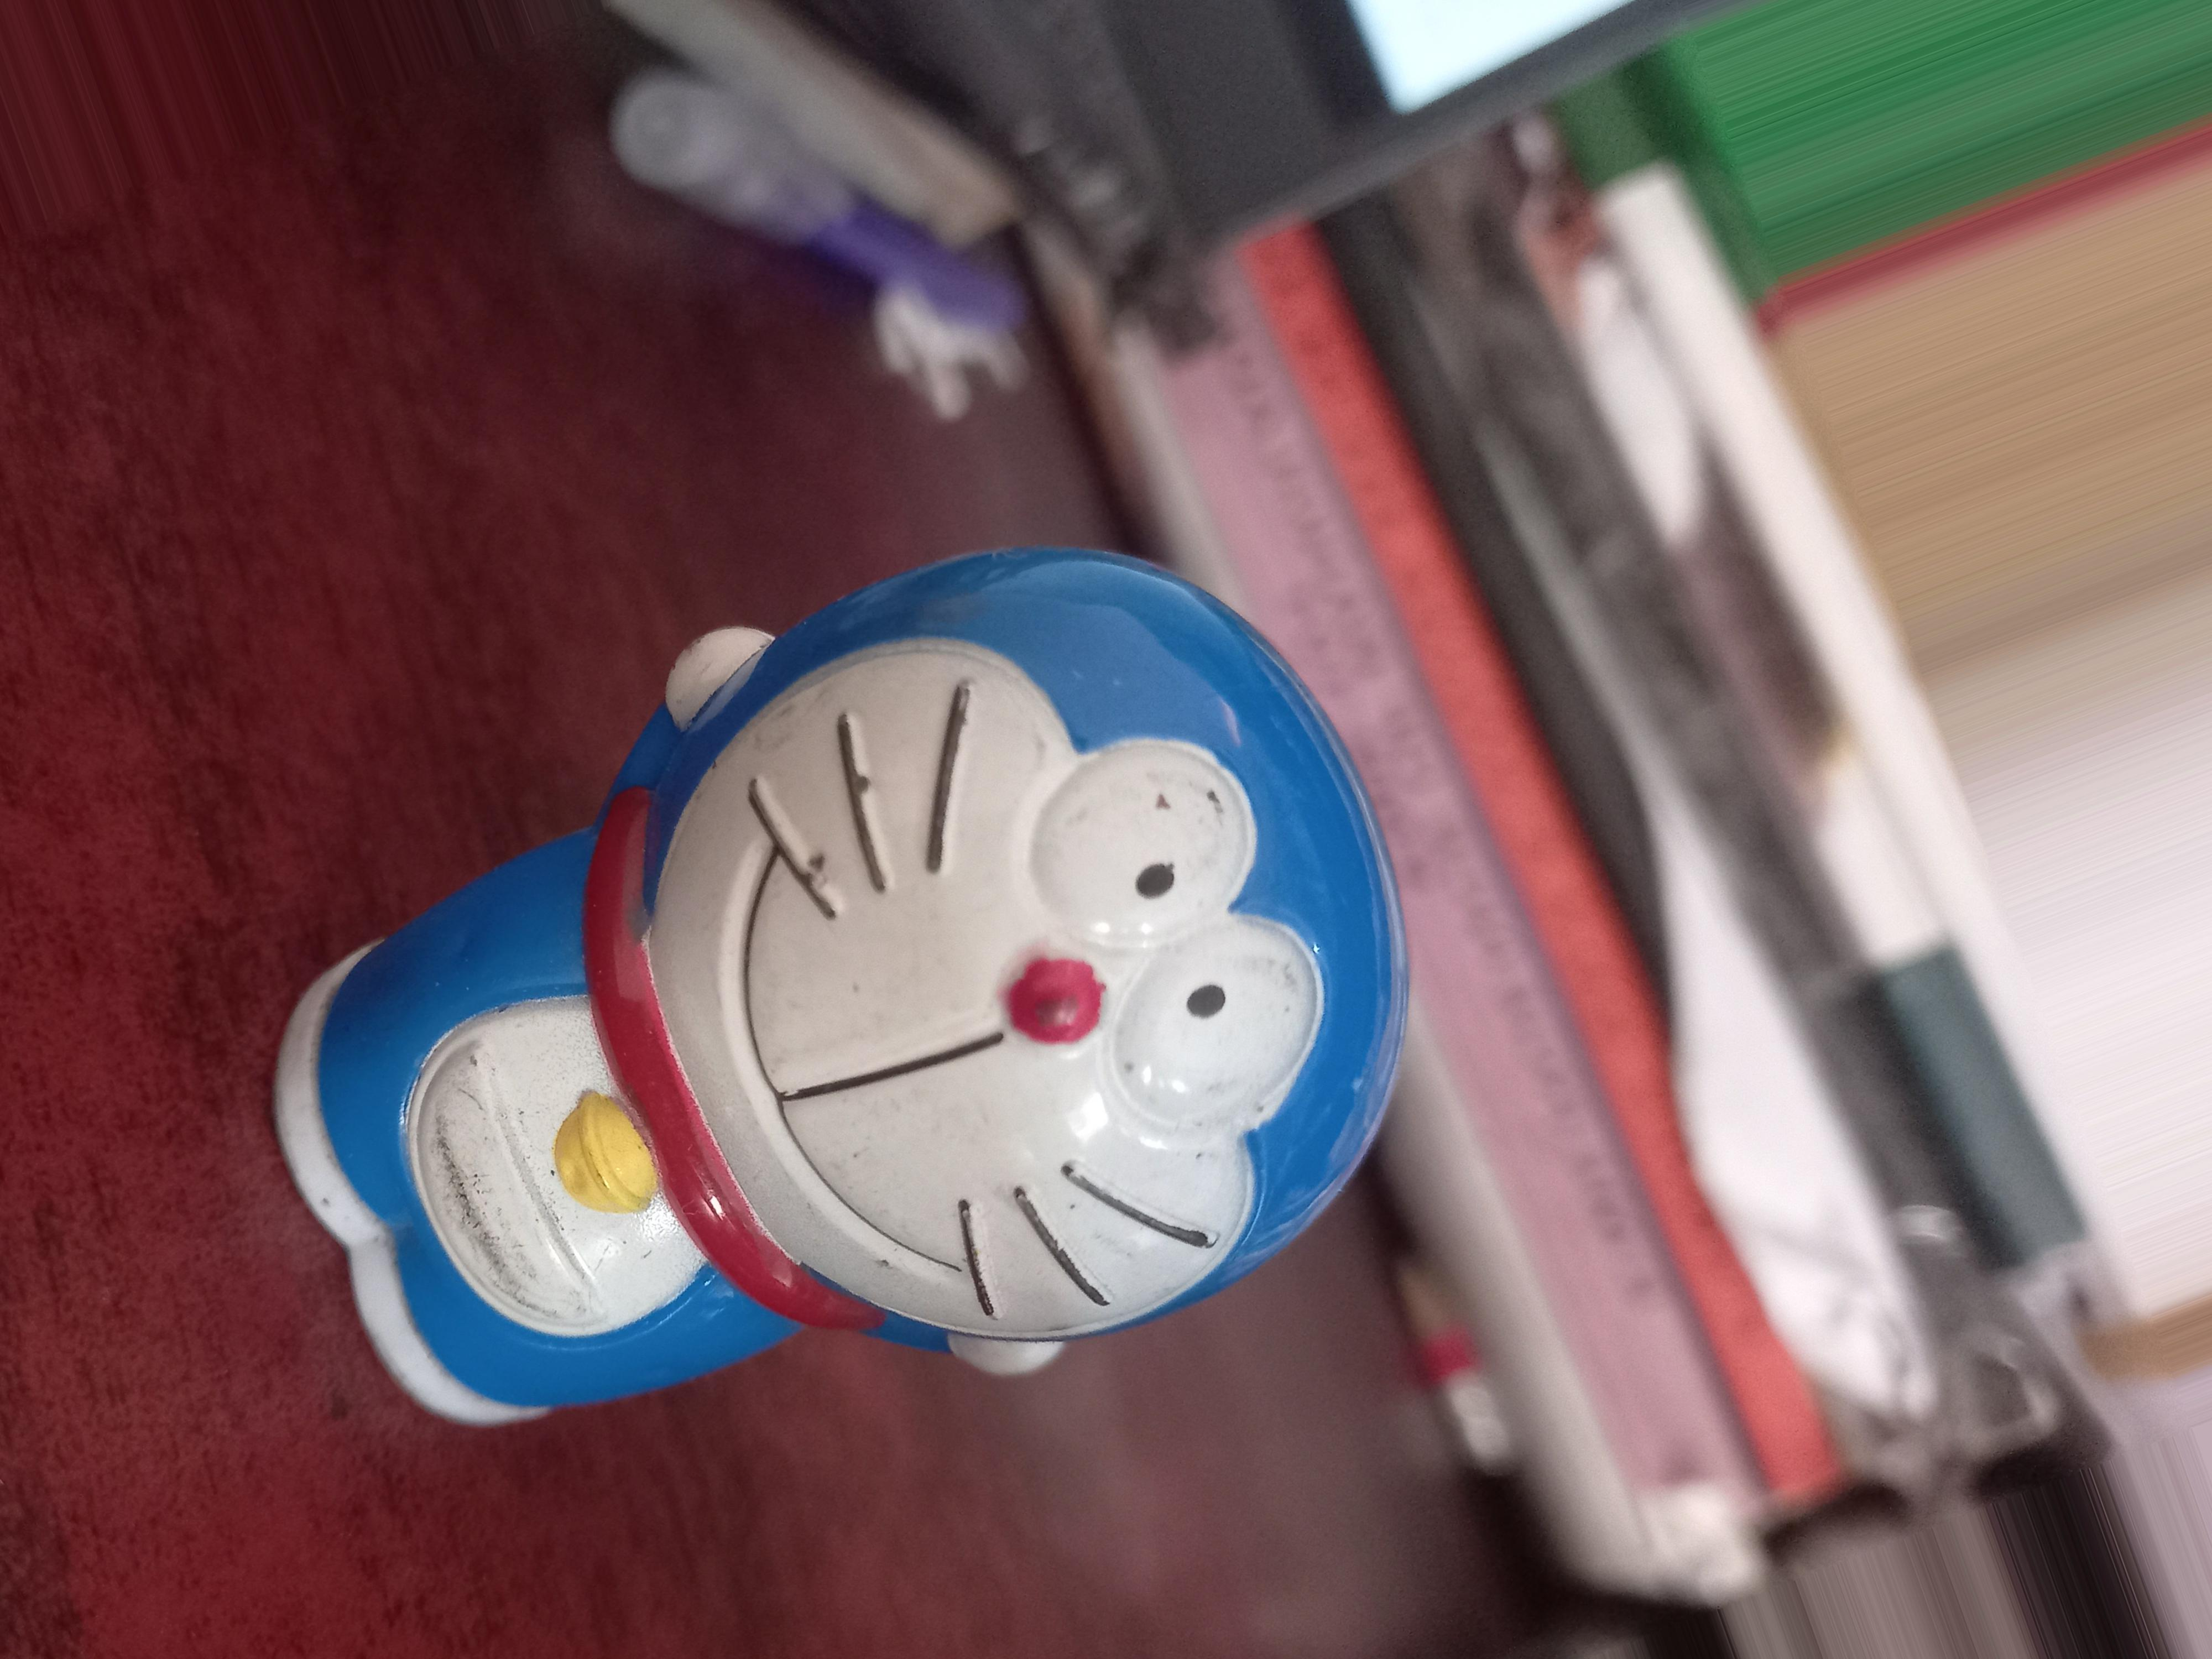doraemon: (317, 615, 1393, 1380)
